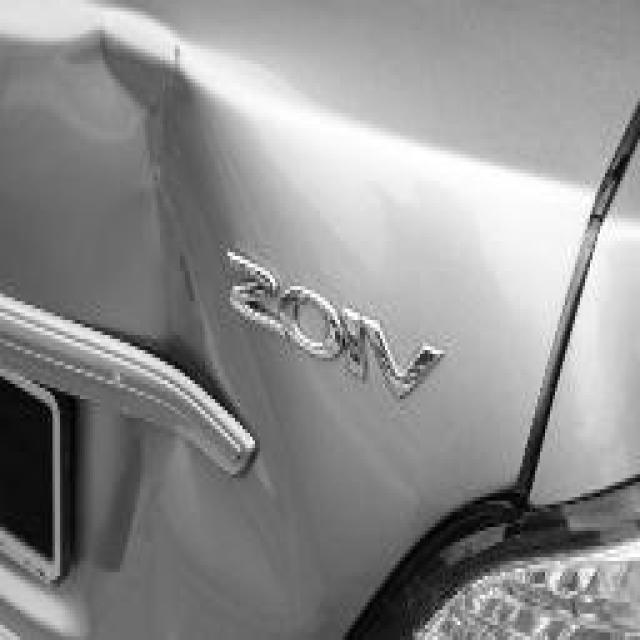Dickey: (53, 6, 330, 577)
